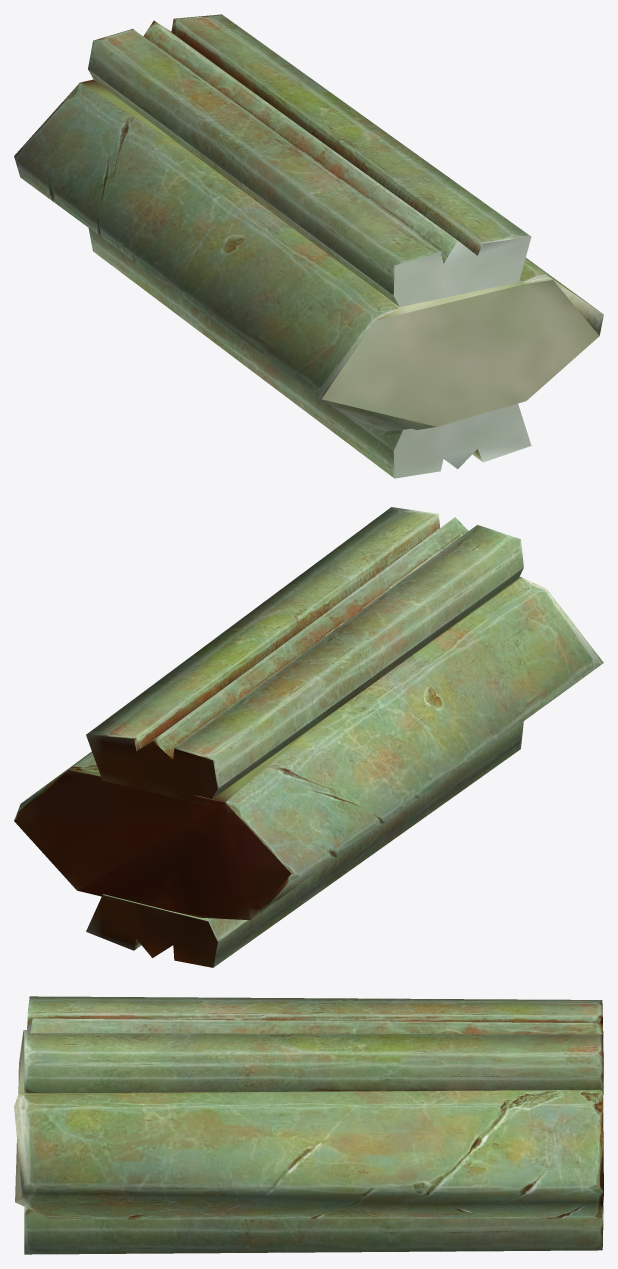
File: Ruins_Collumn_8M_A.fbx
3 renders of one model, top to bottom at view 1: azimuth 30°, elevation 25°; view 2: azimuth 150°, elevation 25°; view 3: azimuth 270°, elevation 25°, orthographic. The views are drawn at different scales.
Visible parts, largest first — view 1: Ruins_Collumn_8M_A; view 2: Ruins_Collumn_8M_A; view 3: Ruins_Collumn_8M_A.
Part boxes in pixels (x1,y1,x2,y2): Ruins_Collumn_8M_A: (14, 14, 603, 478); Ruins_Collumn_8M_A: (14, 507, 603, 967); Ruins_Collumn_8M_A: (14, 996, 603, 1254).
Size of the model in its own units: 429 by 327 by 817.
